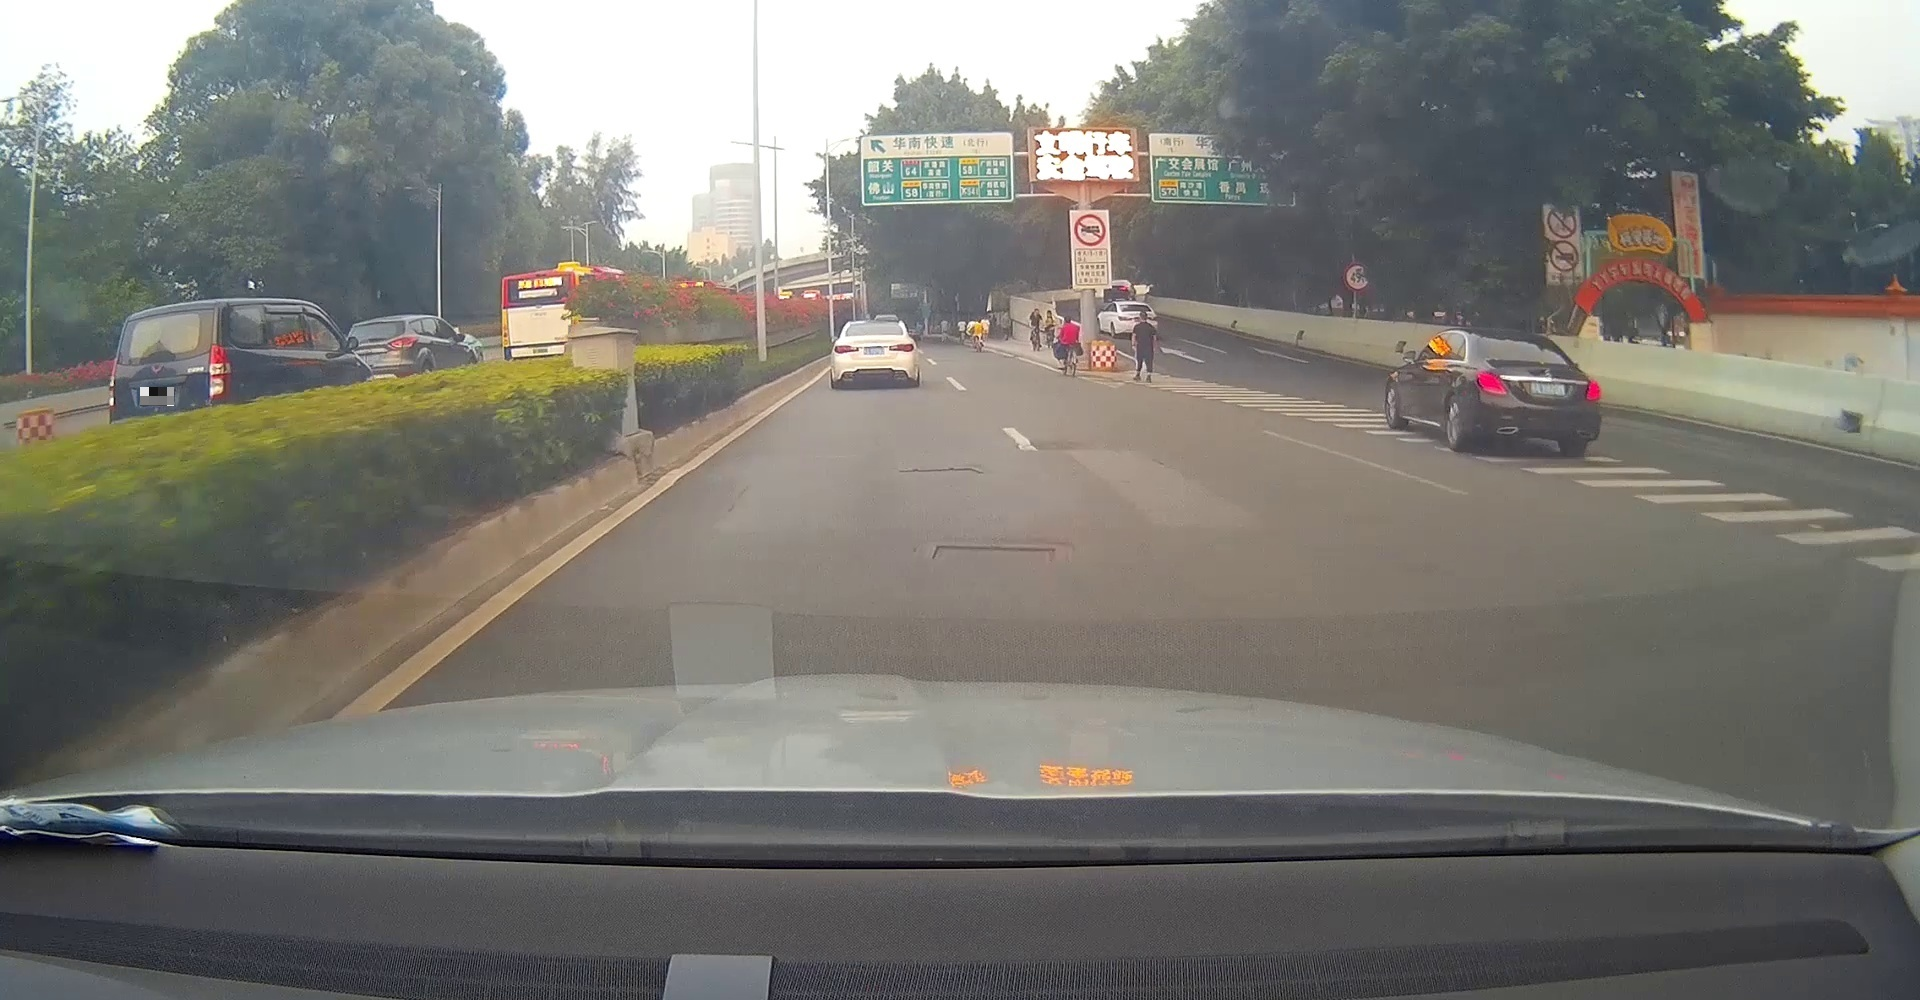L_light: (1476, 371, 1509, 395), (108, 358, 116, 412), (834, 345, 858, 354)
R_light: (208, 343, 232, 400), (1585, 379, 1603, 401), (889, 343, 914, 352)
T_light: (150, 312, 177, 319), (1510, 335, 1530, 339), (869, 322, 881, 325)
day-no: (108, 299, 232, 456), (1469, 330, 1603, 456), (830, 319, 917, 390)
plate_1: (140, 387, 174, 406)
